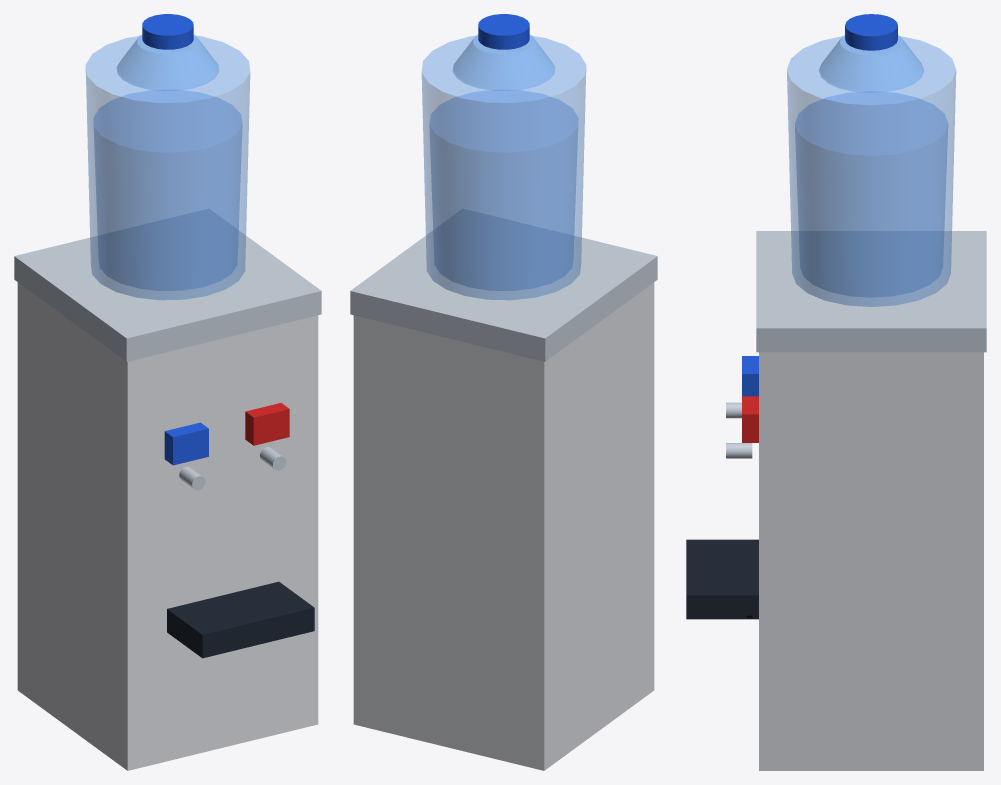
File: cooler.glb
3 renders of one model, left to right at view 1: azimuth 30°, elevation 25°; view 2: azimuth 150°, elevation 25°; view 3: azimuth 270°, elevation 25°, orthographic. The views are drawn at different scales.
Parts seen in each view (by area): view 1: cooler; view 2: cooler; view 3: cooler.
Part boxes in pixels (x1,y1,x2,y2): cooler: (14, 14, 321, 770); cooler: (350, 14, 657, 770); cooler: (686, 14, 986, 770).
Size of the model in its own units: 0.87 by 2.91 by 1.13.
